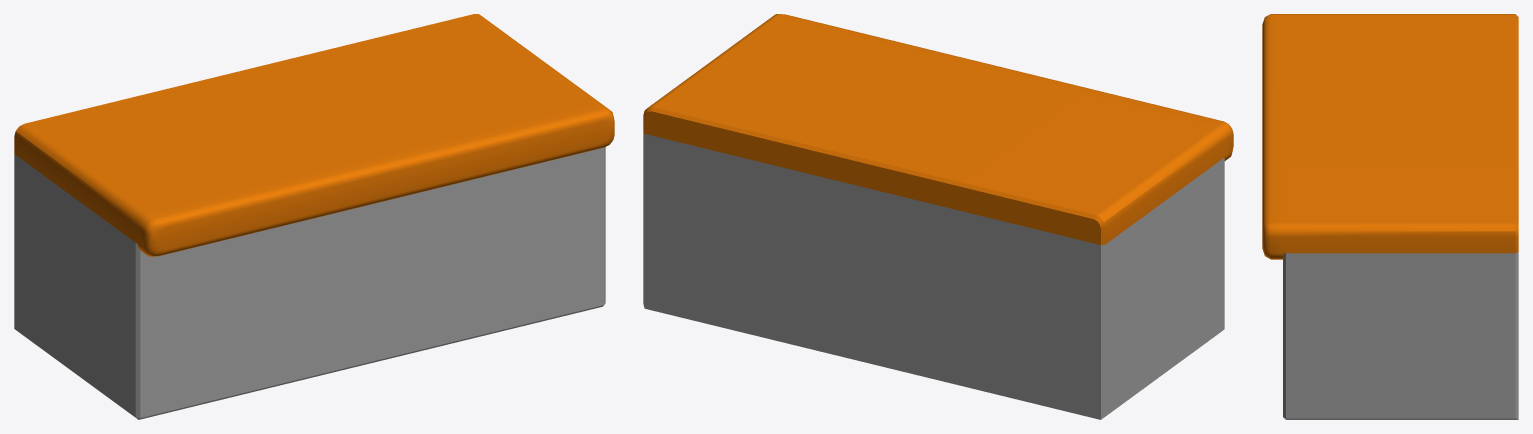
File: SM_counter_double.fbx
3 renders of one model, left to right at view 1: azimuth 30°, elevation 25°; view 2: azimuth 150°, elevation 25°; view 3: azimuth 270°, elevation 25°, orthographic. The views are drawn at different scales.
Visible parts, largest first — view 1: polySurface43; view 2: polySurface43; view 3: polySurface43.
Part boxes in pixels (x1,y1,x2,y2): polySurface43: (14, 14, 614, 419); polySurface43: (643, 14, 1233, 419); polySurface43: (1262, 14, 1518, 419).
Bounding box in the file's own units: 2 × 0.8358 × 1.
